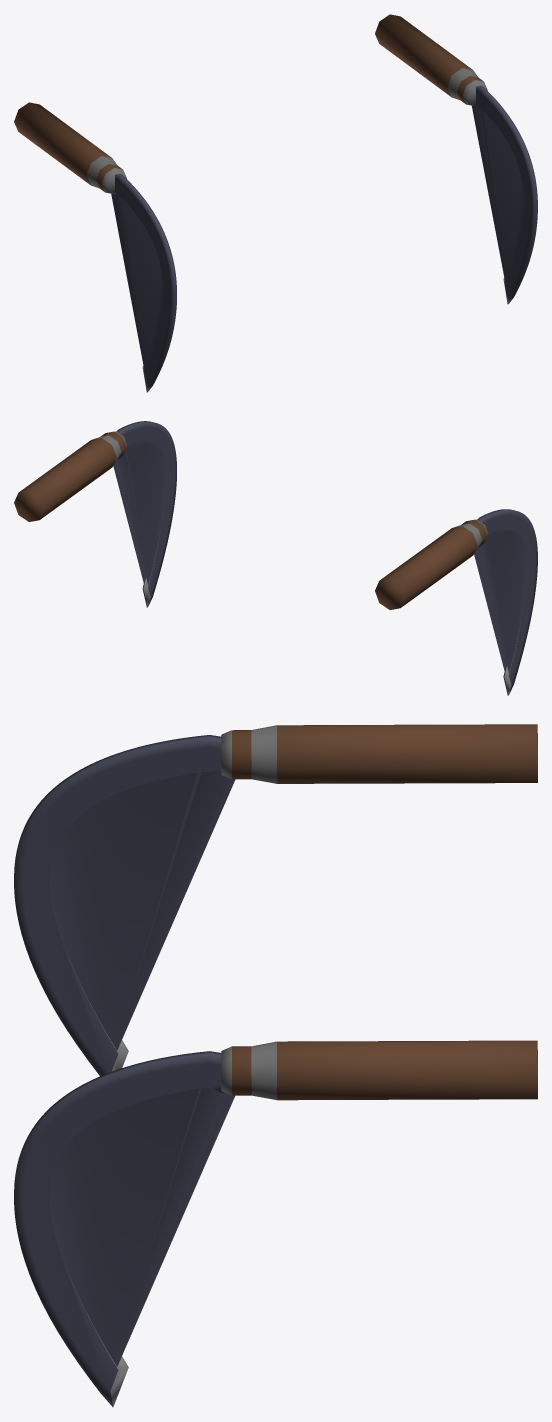
The model's file is Sickles.fbx.
The picture shows the model from 3 angles, top to bottom: view 1: azimuth 30°, elevation 25°; view 2: azimuth 150°, elevation 25°; view 3: azimuth 270°, elevation 25°; orthographic projection. The views are drawn at different scales.
Parts seen in each view (by area): view 1: NurbsPath.002, NurbsPath.003; view 2: NurbsPath.003, NurbsPath.002; view 3: NurbsPath.002, NurbsPath.003.
Part boxes in pixels (bbox=[...]): NurbsPath.002: bbox=[375, 14, 537, 304]; NurbsPath.003: bbox=[14, 102, 176, 392]; NurbsPath.003: bbox=[375, 509, 537, 695]; NurbsPath.002: bbox=[14, 421, 176, 607]; NurbsPath.002: bbox=[14, 1040, 537, 1407]; NurbsPath.003: bbox=[14, 724, 537, 1076].
Bounding box in the file's own units: 152 × 75.72 × 98.36.
